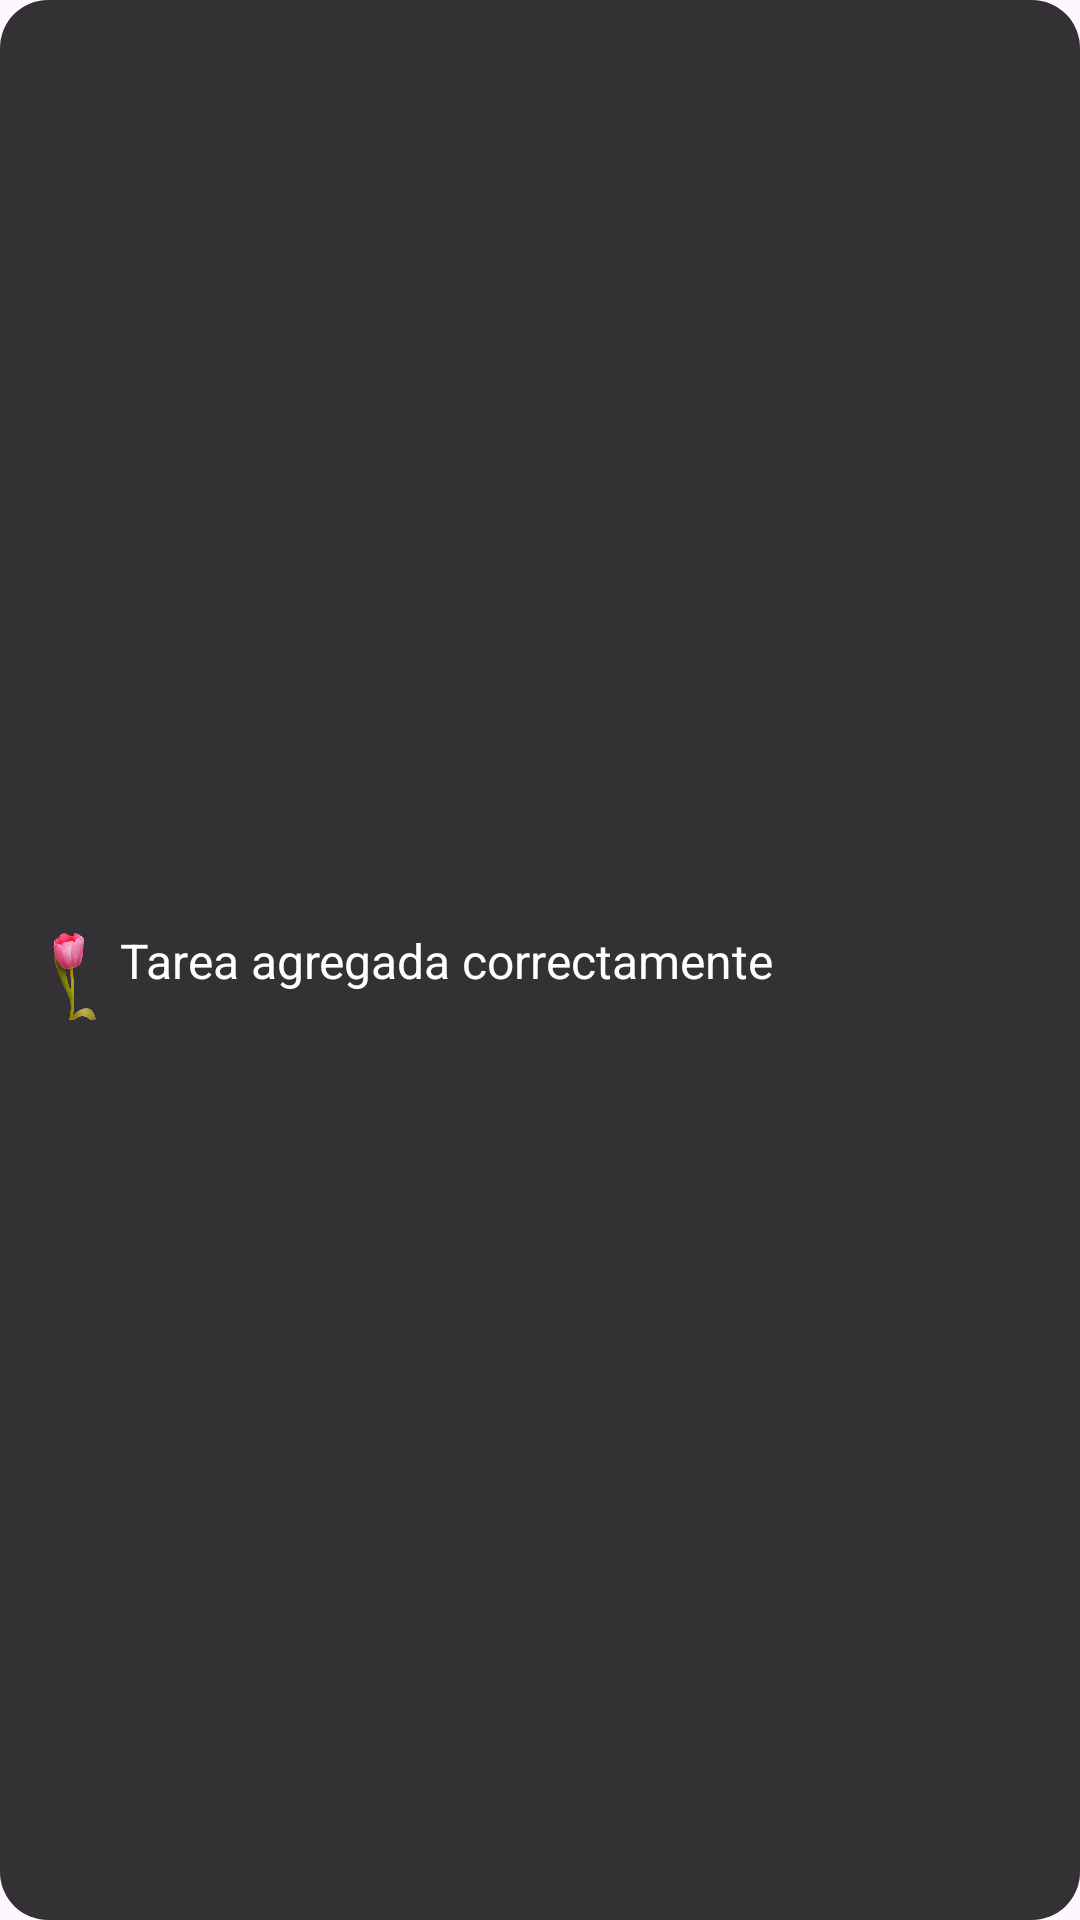

Where icons sit on this 1080x1920 app screen, as bbox=[x1, y1, x2, y2]:
Icono del toast: bbox=[53, 933, 97, 1020]
